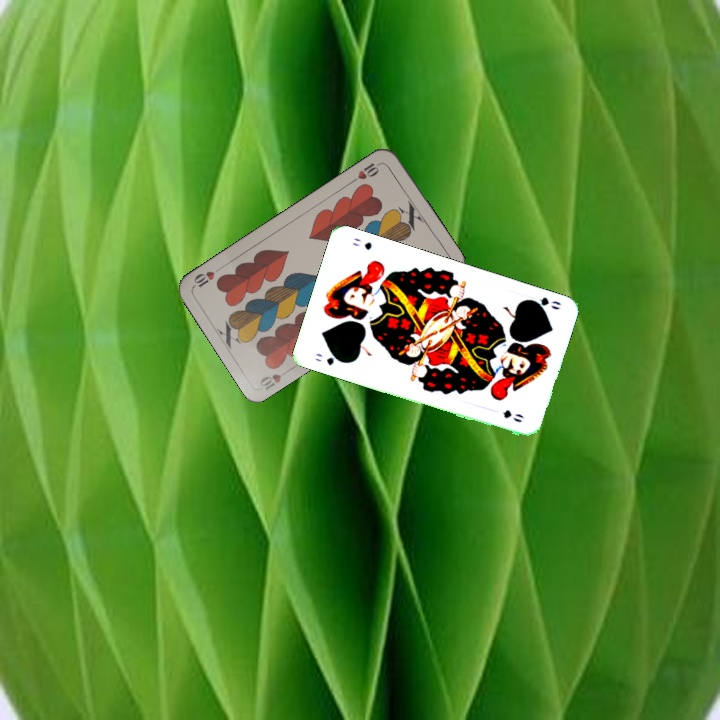GO: (523, 293, 563, 313), (311, 349, 348, 368)
H10: (255, 365, 294, 393), (347, 158, 384, 185)
